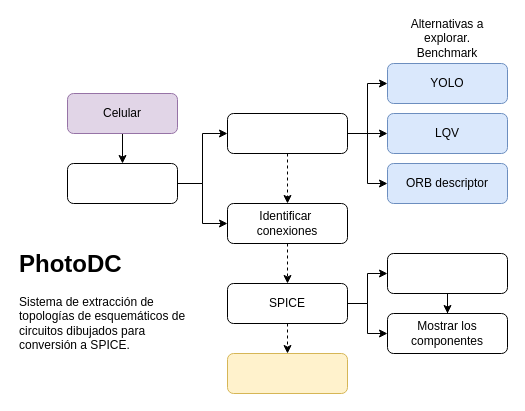
The diagram is 525 pixels wide and 411 high, and some of its shapes have lost their labels. Here are the shapes that lost their labels. From the top down, the centre of each, then its label:
At (x=287, y=133): "Identificar componentes".
At (x=122, y=183): "Adquirir imagen".
At (x=447, y=273): "Resolver el circuito".
At (x=287, y=373): "Exportar SPICE".
